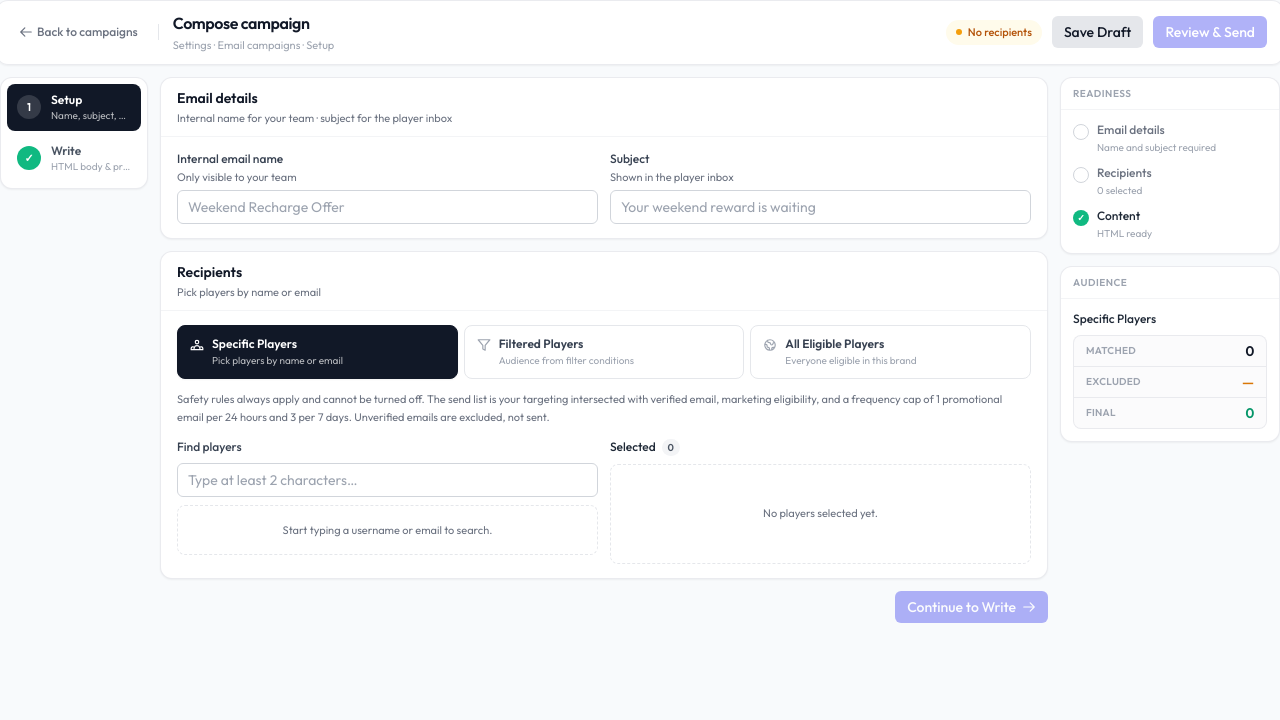
it: EmailCampaignComposePage › shows live recipient metrics for the active method
The image size is (1280, 720).
Check: the heading "Compose campaign" is shown, box x1=173 y1=11 x2=310 y2=35
Click the text "All Eligible Players" at (835, 344), box x1=785 y1=336 x2=884 y2=351
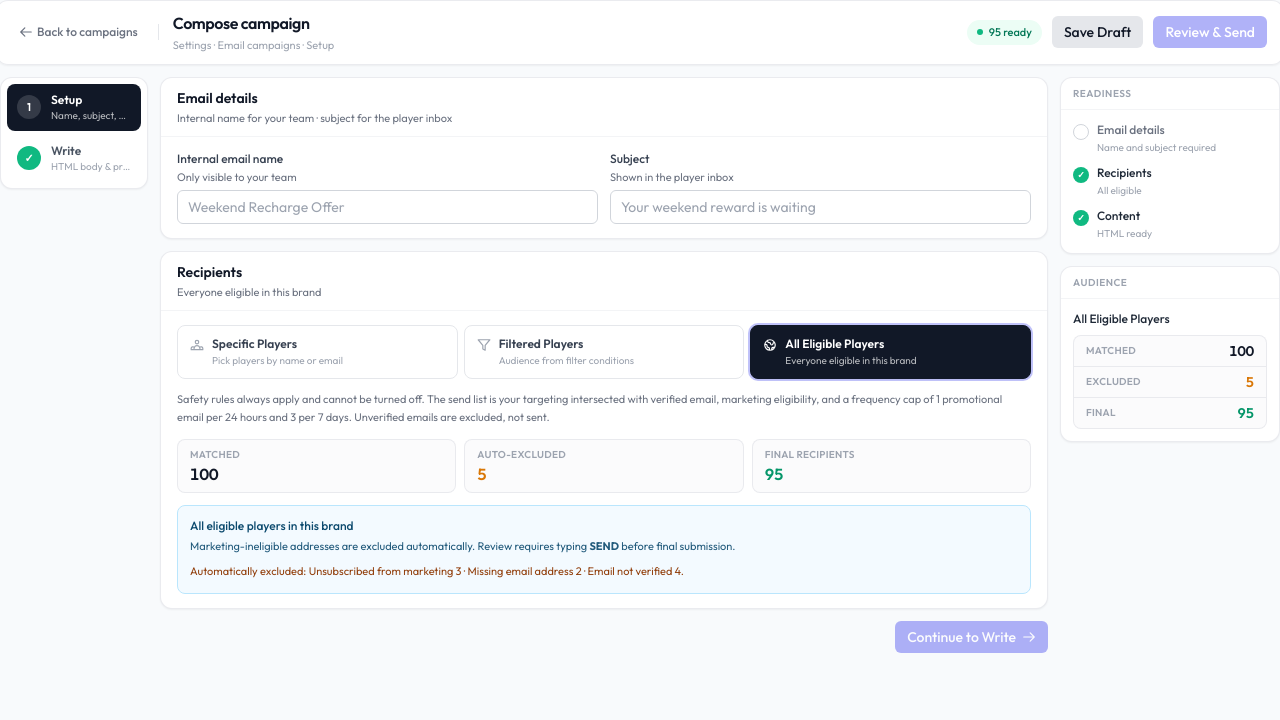
Check: the text "100" below "Auto-excluded" is shown, box x1=190 y1=464 x2=218 y2=484
Check: the text "5" below "Auto-excluded" is shown, box x1=477 y1=464 x2=487 y2=484
Check: the text "95" below "Final recipients" is shown, box x1=765 y1=464 x2=784 y2=484
